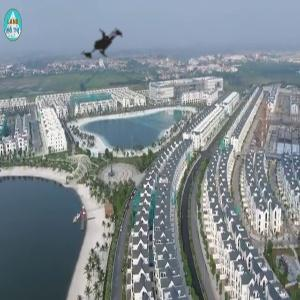drone: (64, 3, 152, 91)
